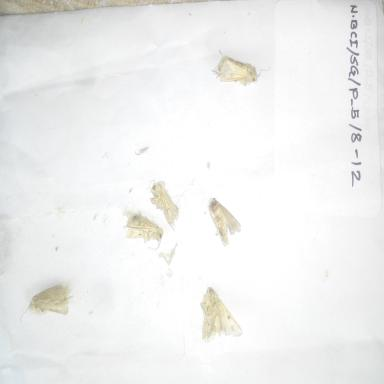abw: (197, 280, 245, 346), (208, 45, 271, 91), (18, 280, 75, 328), (117, 206, 166, 251), (204, 192, 243, 248), (144, 177, 182, 233)
